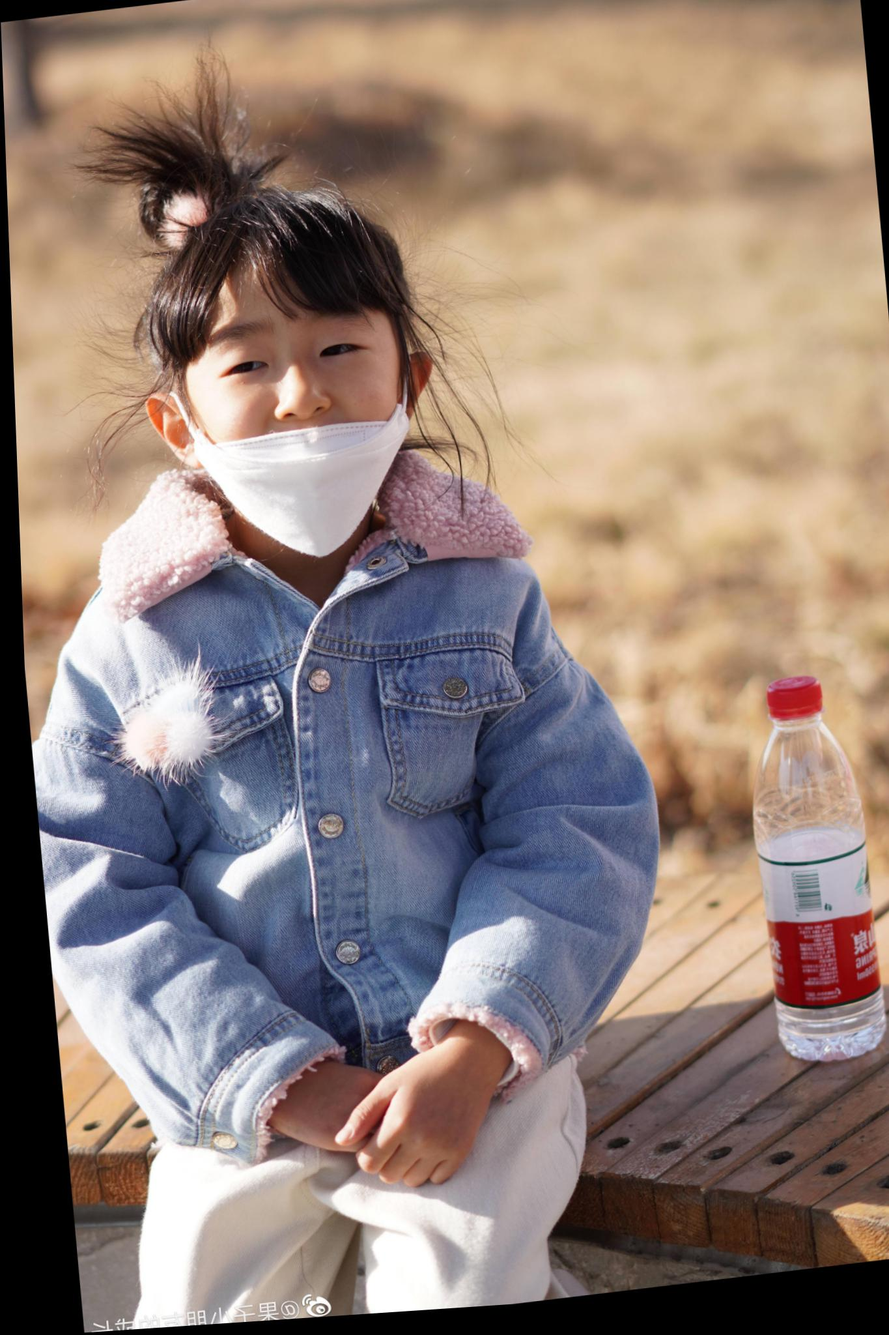WRONG: (182, 292, 408, 571)
